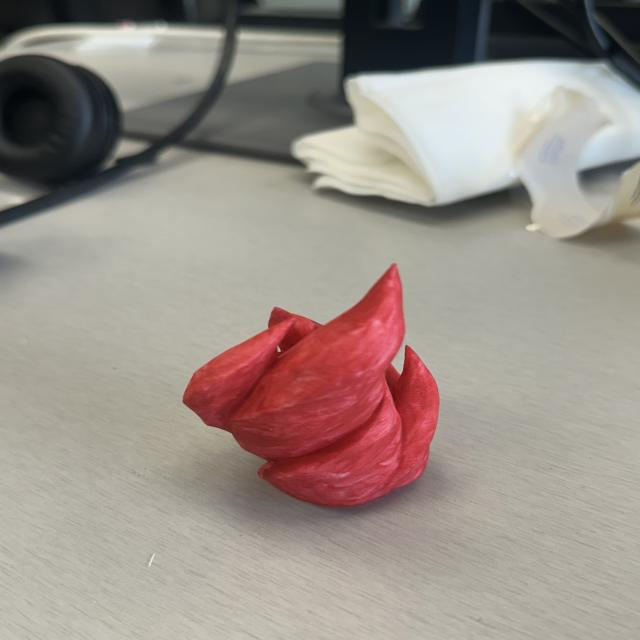fire: (182, 263, 442, 508)
